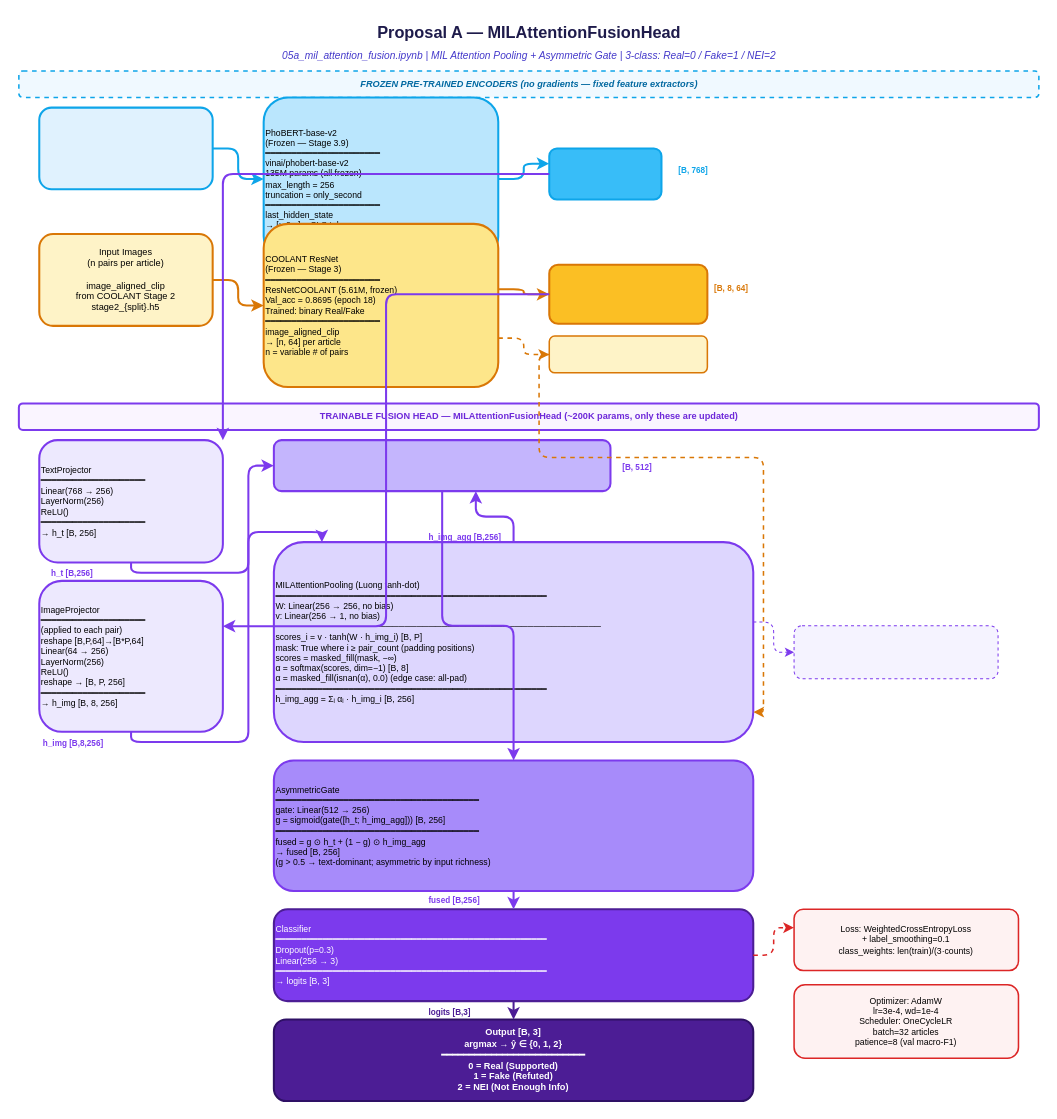
Image size: 1057x1119. Some labels were removed from this diagram. The box of each missing label's shape, as (x1, y1, x2, y2) in pixels:
attn_weights [B, 8] (returned for inspection) shows which pair matters most: (793, 625, 998, 679)
CLS token [B, 768]: (548, 147, 662, 200)
concat([h_t, h_img_agg], dim=−1) [B, 256+256] = [B, 512]: (272, 439, 611, 492)
Image pairs [B, max_pairs=8, 64] (padded, zeros for pad): (548, 263, 708, 324)
Input Text (per article) Statement [SEP] Evidence (ViFactCheck HF dataset): (38, 106, 213, 190)
pair_counts [B] (real n, ≤8): (548, 335, 708, 373)
